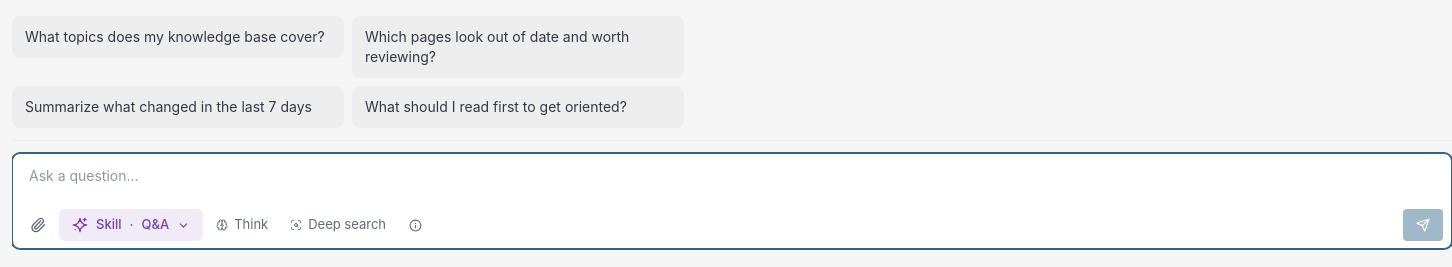
AskMode › renders 4 example prompts and clicking one fills the input (#350)
Click the button with test id "ask-example-prompt" at (178, 37), box [12, 16, 344, 58]
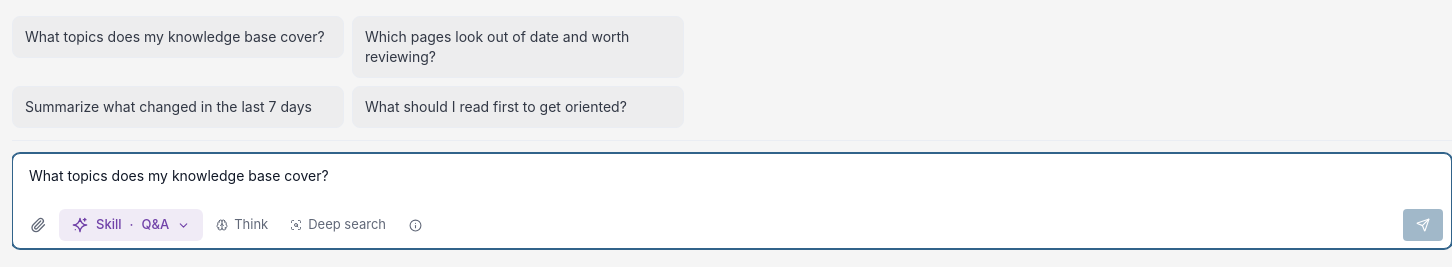
Expected: the text box with placeholder "Ask a question..." holds "What topics does my knowledge base cover?", [21, 160, 1443, 200]
